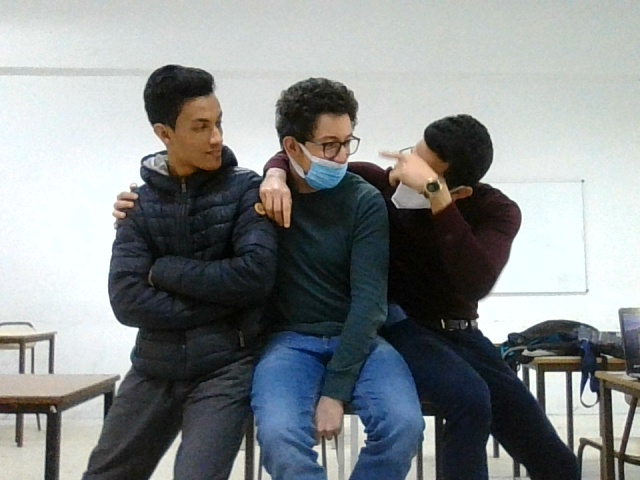mask_weared_incorrect: (280, 81, 358, 195)
without_mask: (136, 72, 235, 178)
